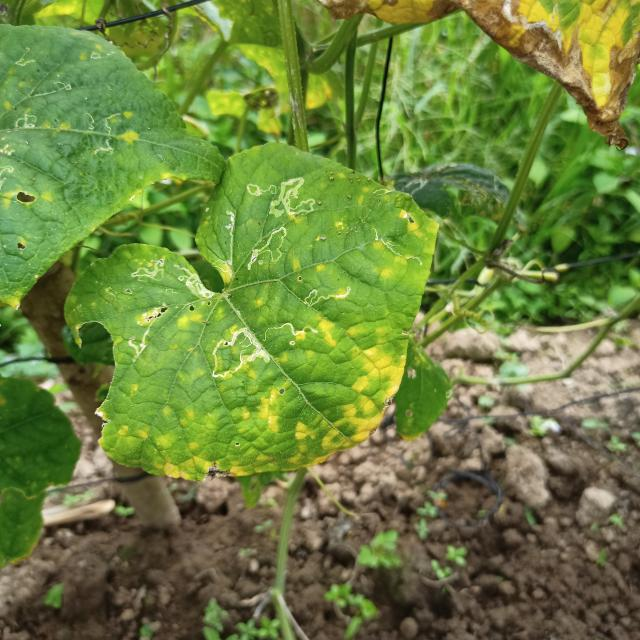disease_cucumber: (250, 316, 405, 462), (113, 400, 272, 482)
